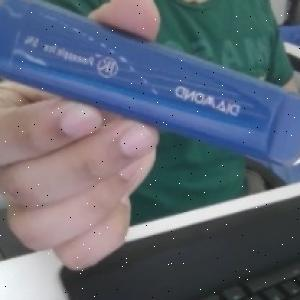Diamond-E-Ciggirate: (0, 0, 300, 170)
